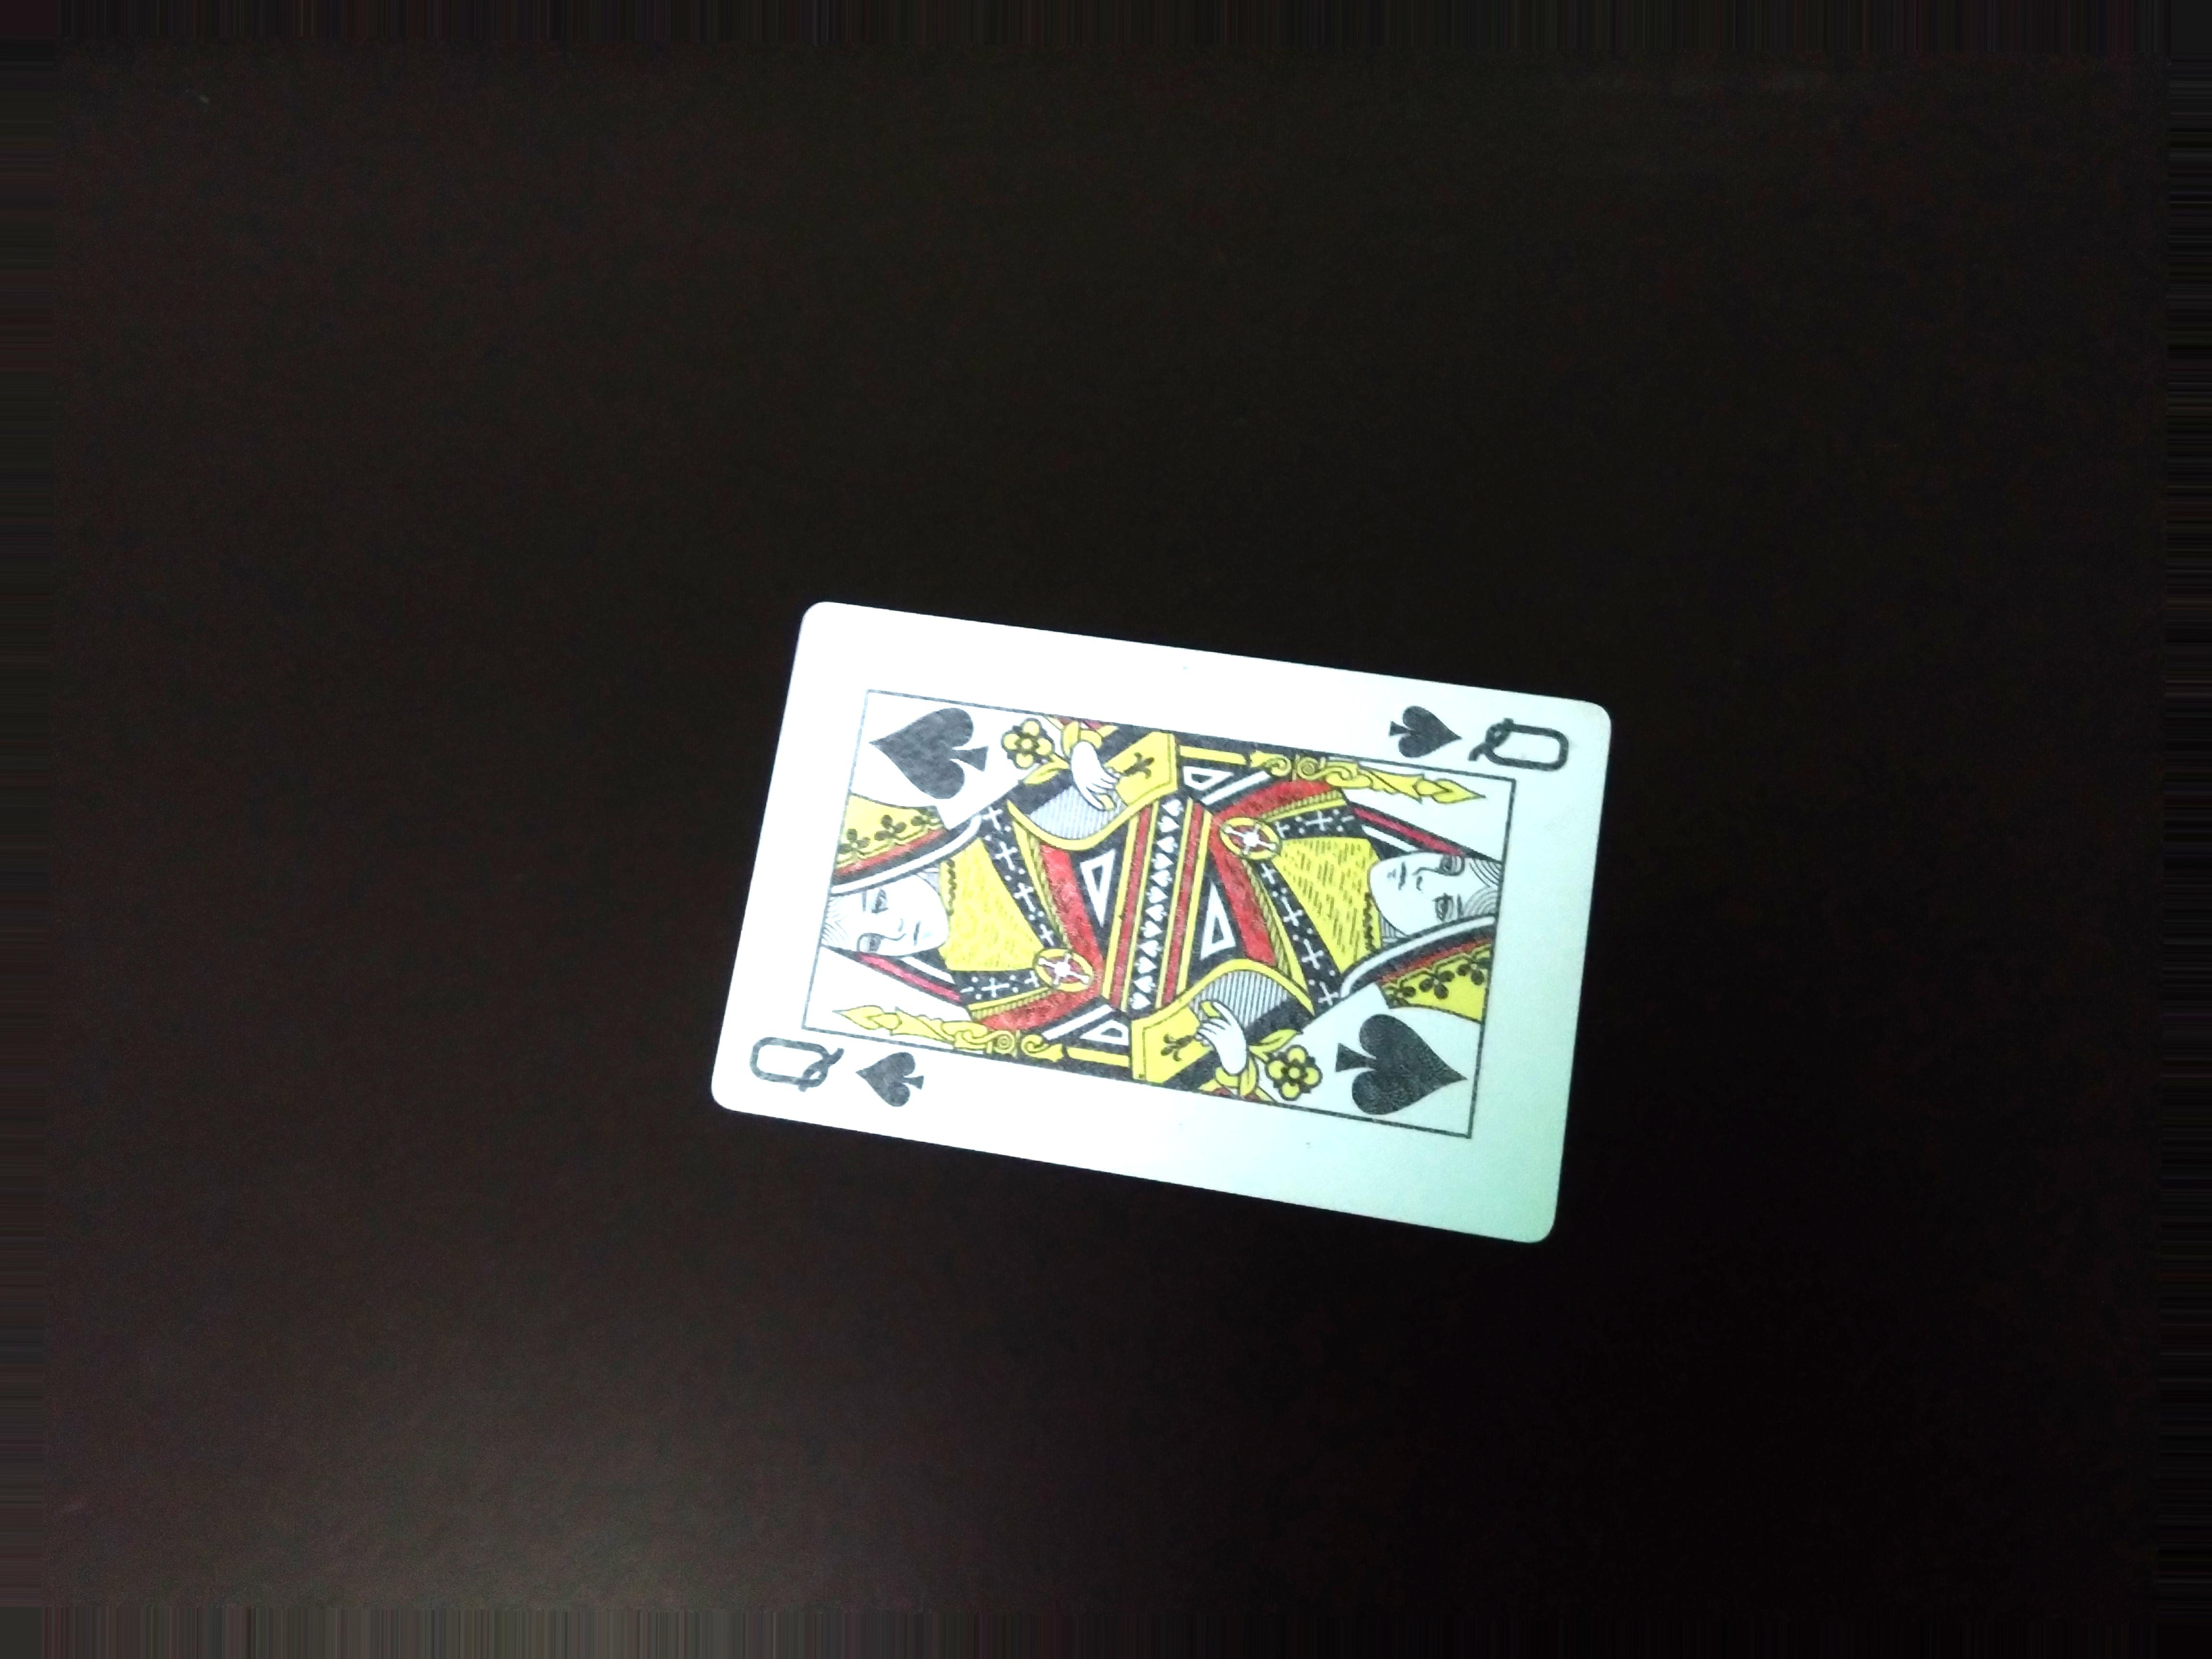QS: (693, 1011, 944, 1122)
